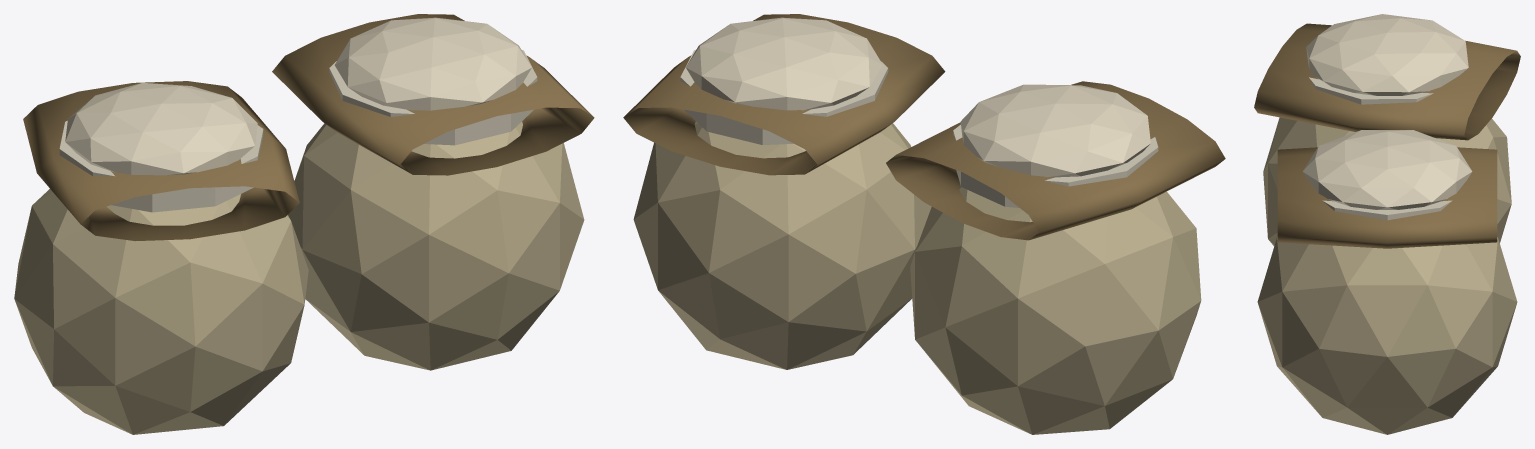
The model's file is pile-flour-2.gltf.
3 views of the same model, side by side, from view 1: azimuth 30°, elevation 25°; view 2: azimuth 150°, elevation 25°; view 3: azimuth 270°, elevation 25° (orthographic). The views are drawn at different scales.
Parts seen in each view (by area): view 1: pile-flour-2; view 2: pile-flour-2; view 3: pile-flour-2.
Part boxes in pixels (left/top/right/bottom): pile-flour-2: left=14, top=14, right=594, bottom=434; pile-flour-2: left=623, top=14, right=1225, bottom=434; pile-flour-2: left=1254, top=14, right=1520, bottom=434.
Bounding box in the file's own units: 0.5257 × 0.3065 × 0.267.
